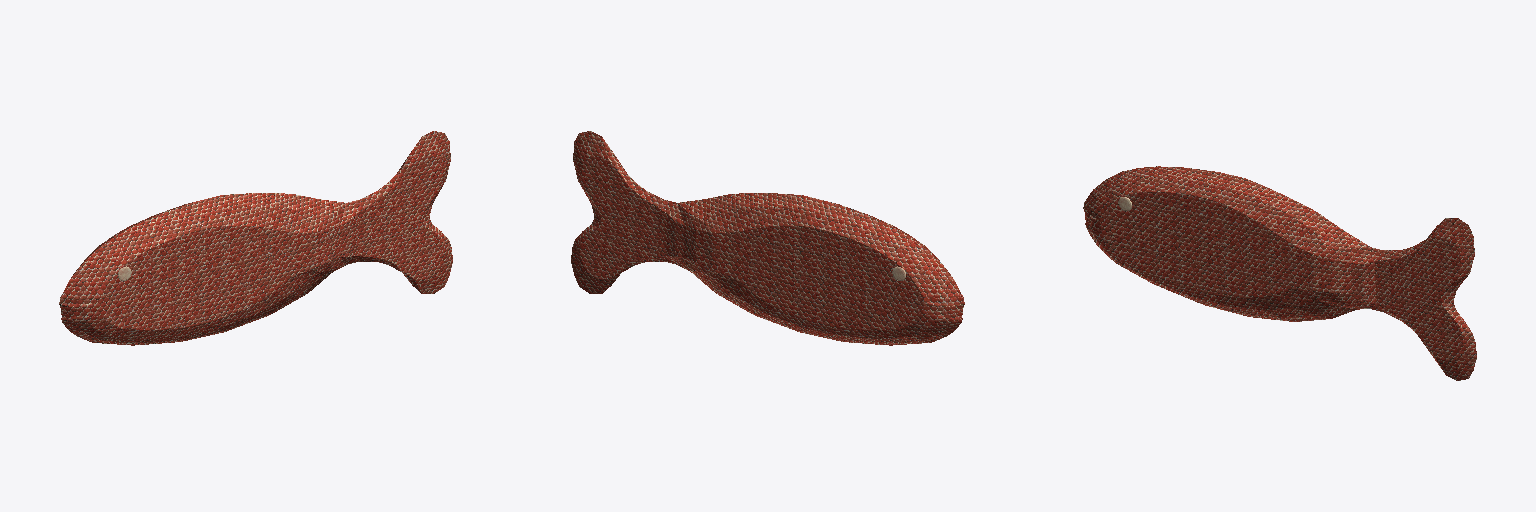
3 views of the same model, side by side, from view 1: azimuth 30°, elevation 25°; view 2: azimuth 150°, elevation 25°; view 3: azimuth 330°, elevation 25° (orthographic).
Parts seen in each view (by area): view 1: Fisch_Plane.001; view 2: Fisch_Plane.001; view 3: Fisch_Plane.001.
Part boxes in pixels (bbox=[...]): Fisch_Plane.001: bbox=[59, 131, 452, 345]; Fisch_Plane.001: bbox=[571, 131, 964, 345]; Fisch_Plane.001: bbox=[1083, 166, 1476, 380].
Bounding box in the file's own units: 2.77 × 1.1 × 0.3048.
1 materials, 1 textured.